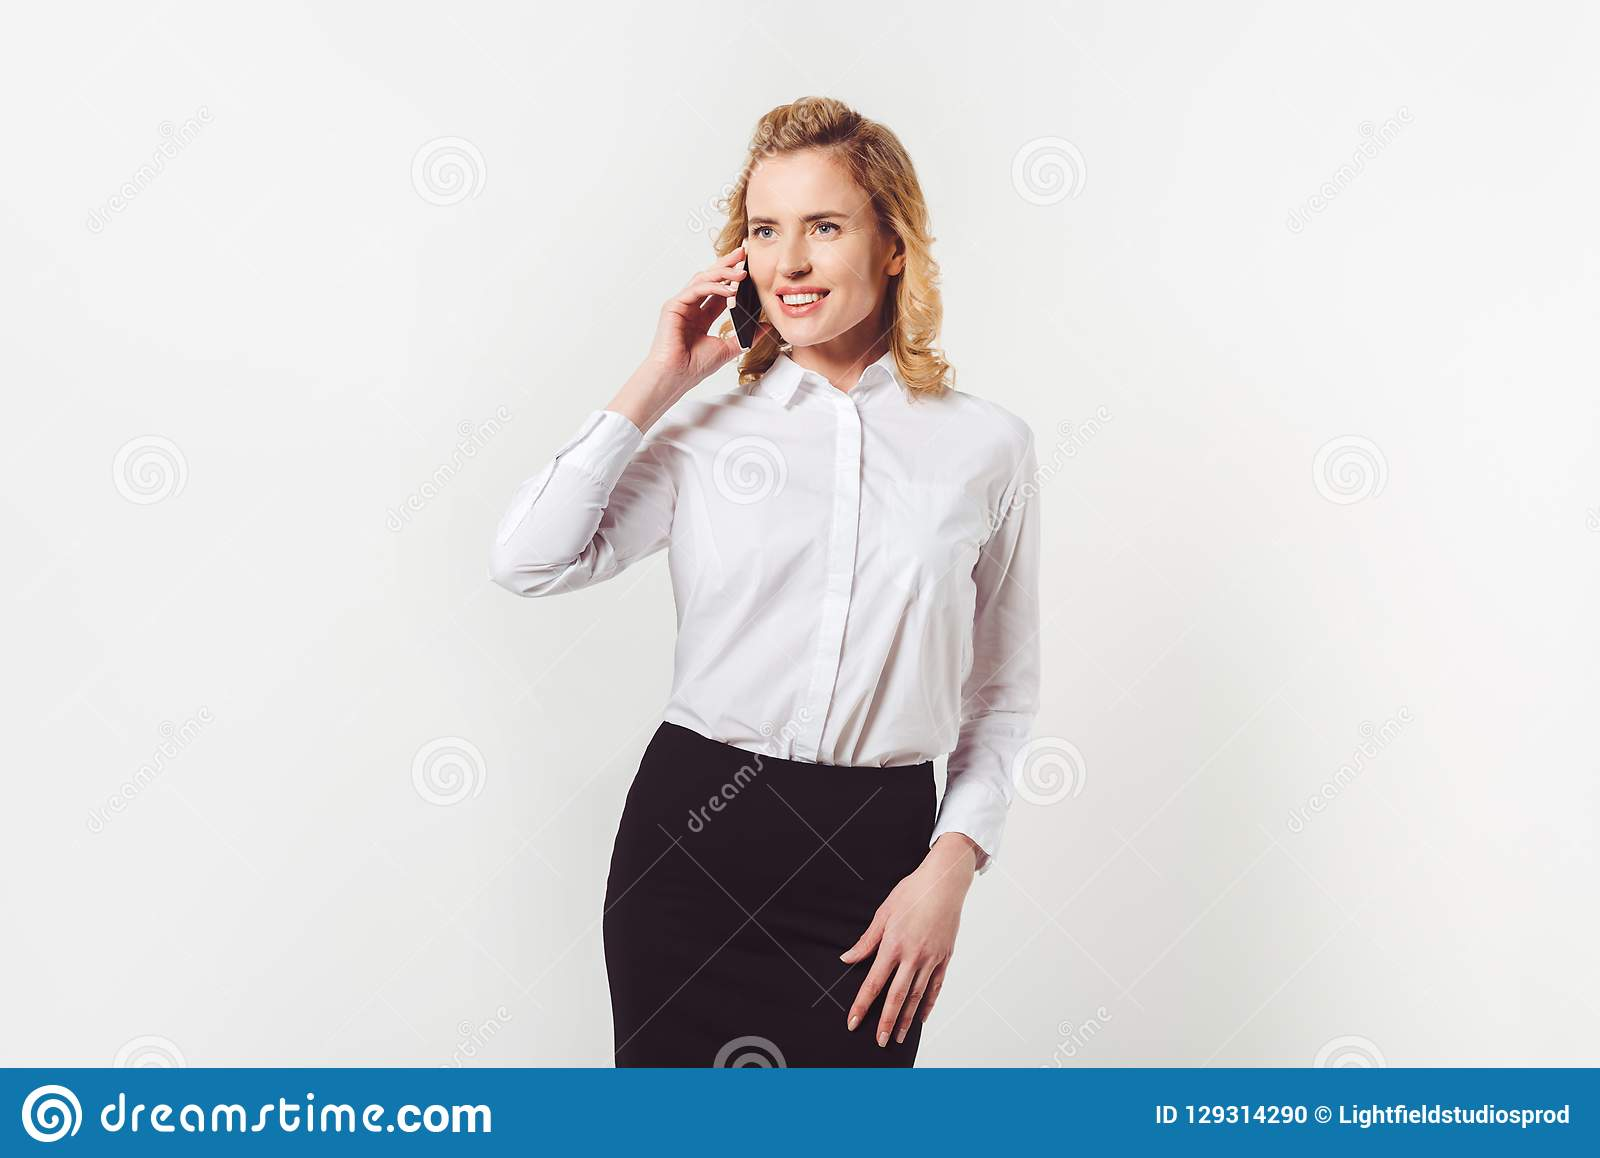phone: (714, 227, 771, 355)
talk: (658, 198, 853, 398)
